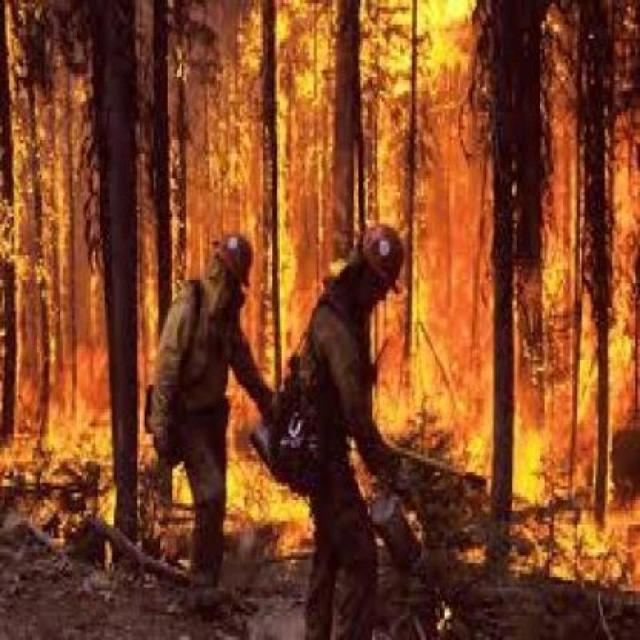Fire: (3, 174, 640, 618)
